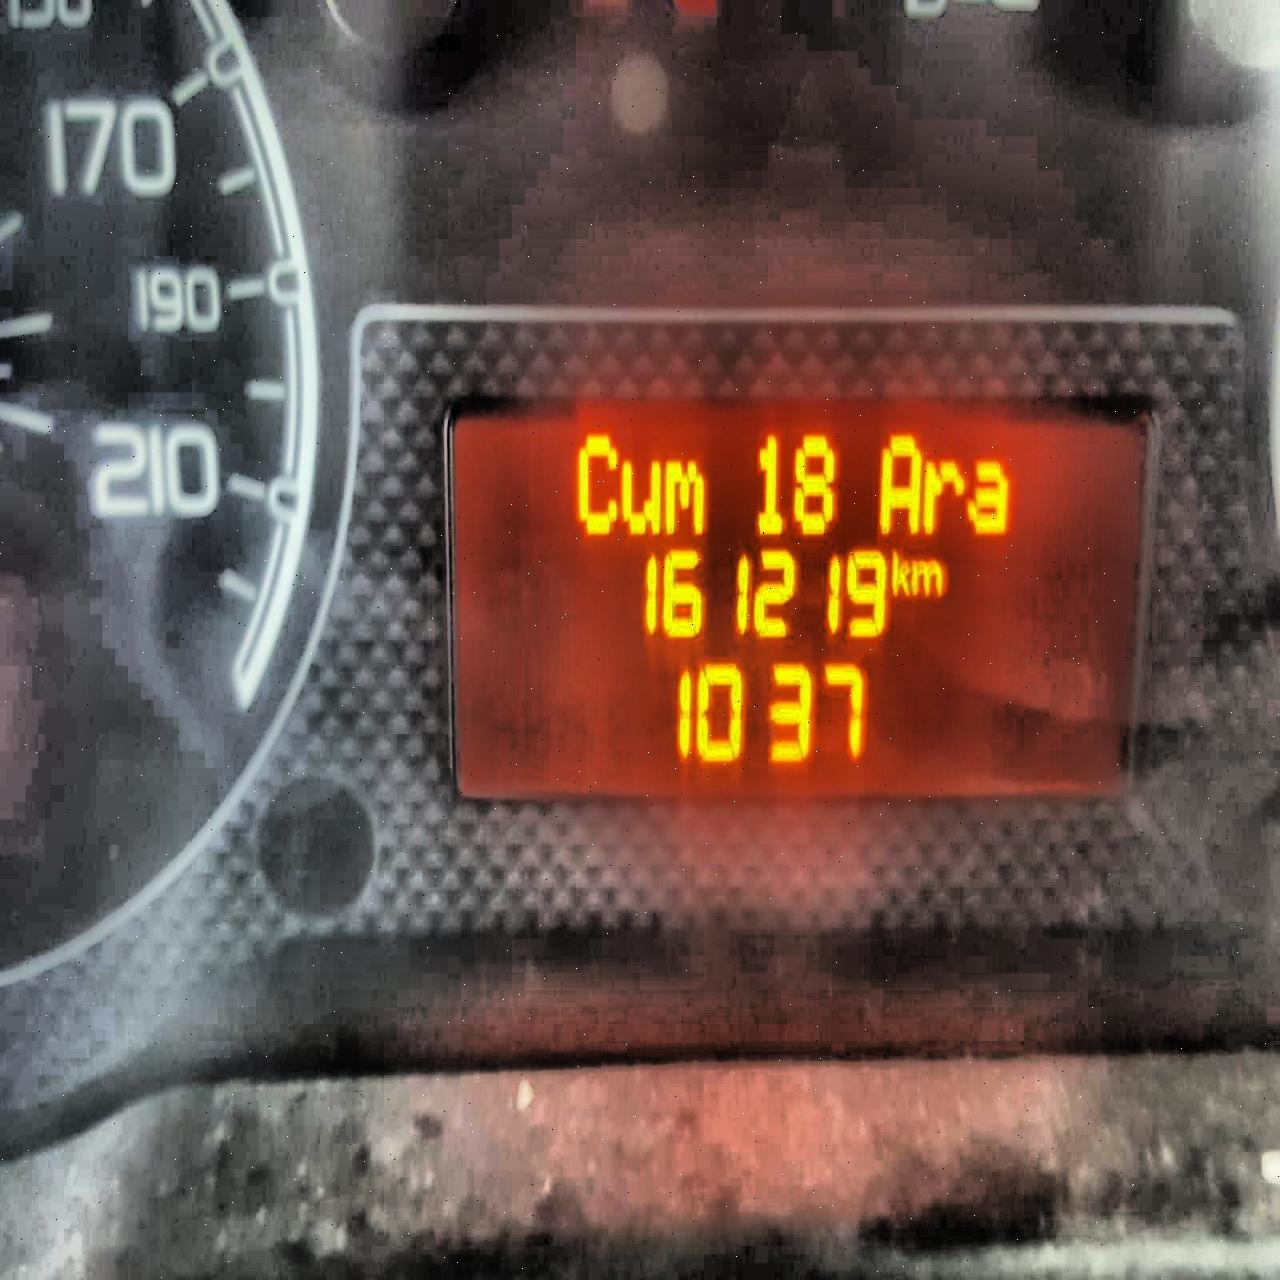0: (695, 660, 744, 764)
1: (749, 428, 788, 537), (669, 667, 693, 763), (638, 551, 659, 634), (729, 550, 749, 635), (821, 550, 840, 634)
2: (753, 545, 797, 639)
3: (768, 660, 812, 764)
6: (663, 544, 704, 640)
7: (821, 655, 864, 762)
8: (788, 427, 840, 538)
9: (844, 545, 887, 640)
X: (572, 427, 618, 538), (876, 427, 919, 537), (965, 455, 1012, 539), (918, 454, 964, 536), (661, 455, 704, 538), (618, 455, 660, 539), (913, 556, 947, 598), (888, 544, 911, 598)
odometer: (437, 387, 1159, 811)
